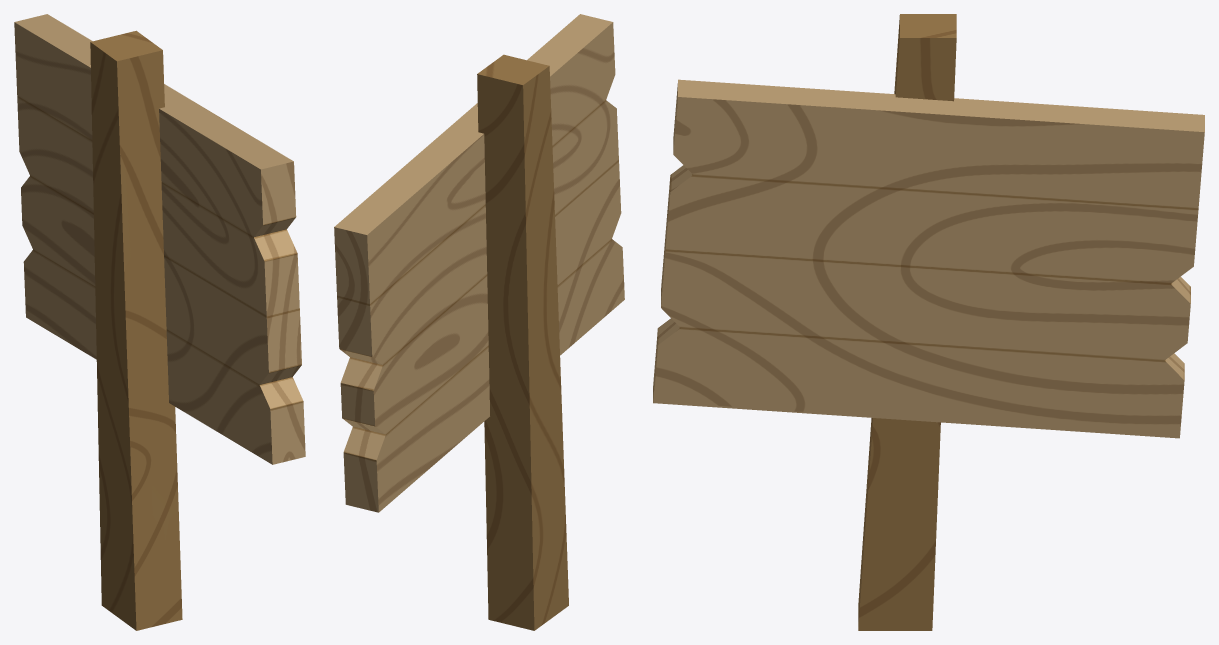
The model's file is cartel.fbx.
The picture shows the model from 3 angles, left to right: view 1: azimuth 30°, elevation 25°; view 2: azimuth 150°, elevation 25°; view 3: azimuth 270°, elevation 25°; orthographic projection. The views are drawn at different scales.
Visible parts, largest first — view 1: Cube; view 2: Cube; view 3: Cube.
Part boxes in pixels (x1,y1,x2,y2): Cube: (14,14,305,630); Cube: (334,14,624,630); Cube: (653,14,1204,630).
Bounding box in the file's own units: 354 × 2566 × 2164.
1 material, 1 textured.
